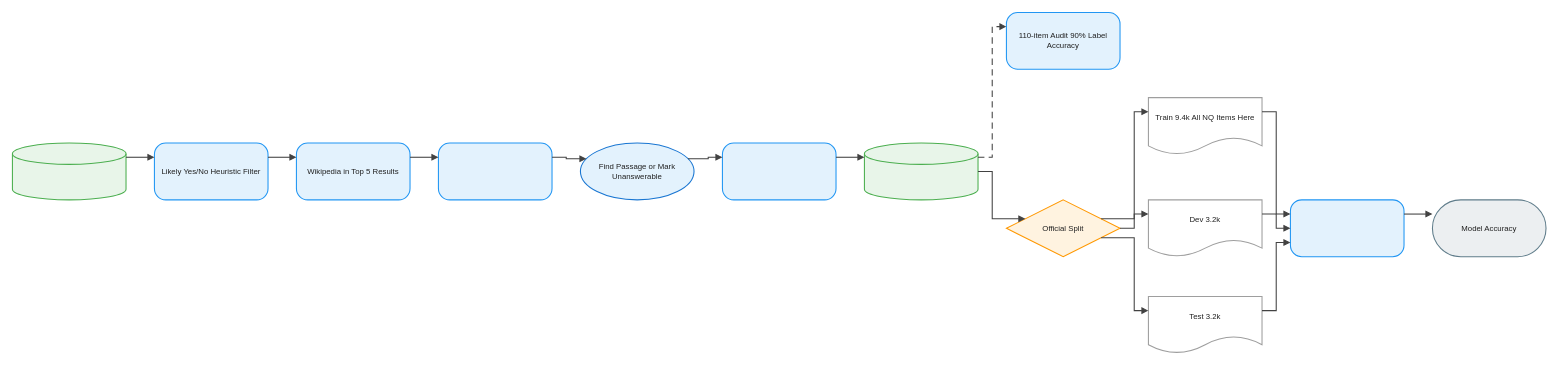
Some shapes in this 1559 by 366 pixel diagram are drawn without their labels. Each missing label, with the centre of its shape:
"13k New + 3k NQ 16k Total" goes at (x=921, y=171).
"Anonymized Google Search Queries" goes at (x=69, y=171).
"Assign Yes / No Answer" goes at (x=779, y=171).
"Judge Question Before Page View" goes at (x=495, y=171).
"Question + Passage Yes/No Prediction" goes at (x=1347, y=228).
